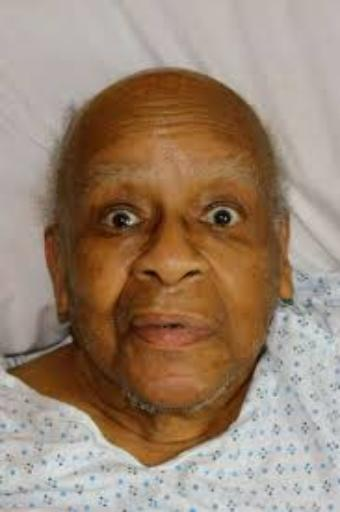left_eye: (201, 204, 250, 233)
left_lip_corner: (200, 315, 223, 344)
right_eye: (98, 206, 147, 236)
right_lip_corner: (122, 317, 142, 341)
